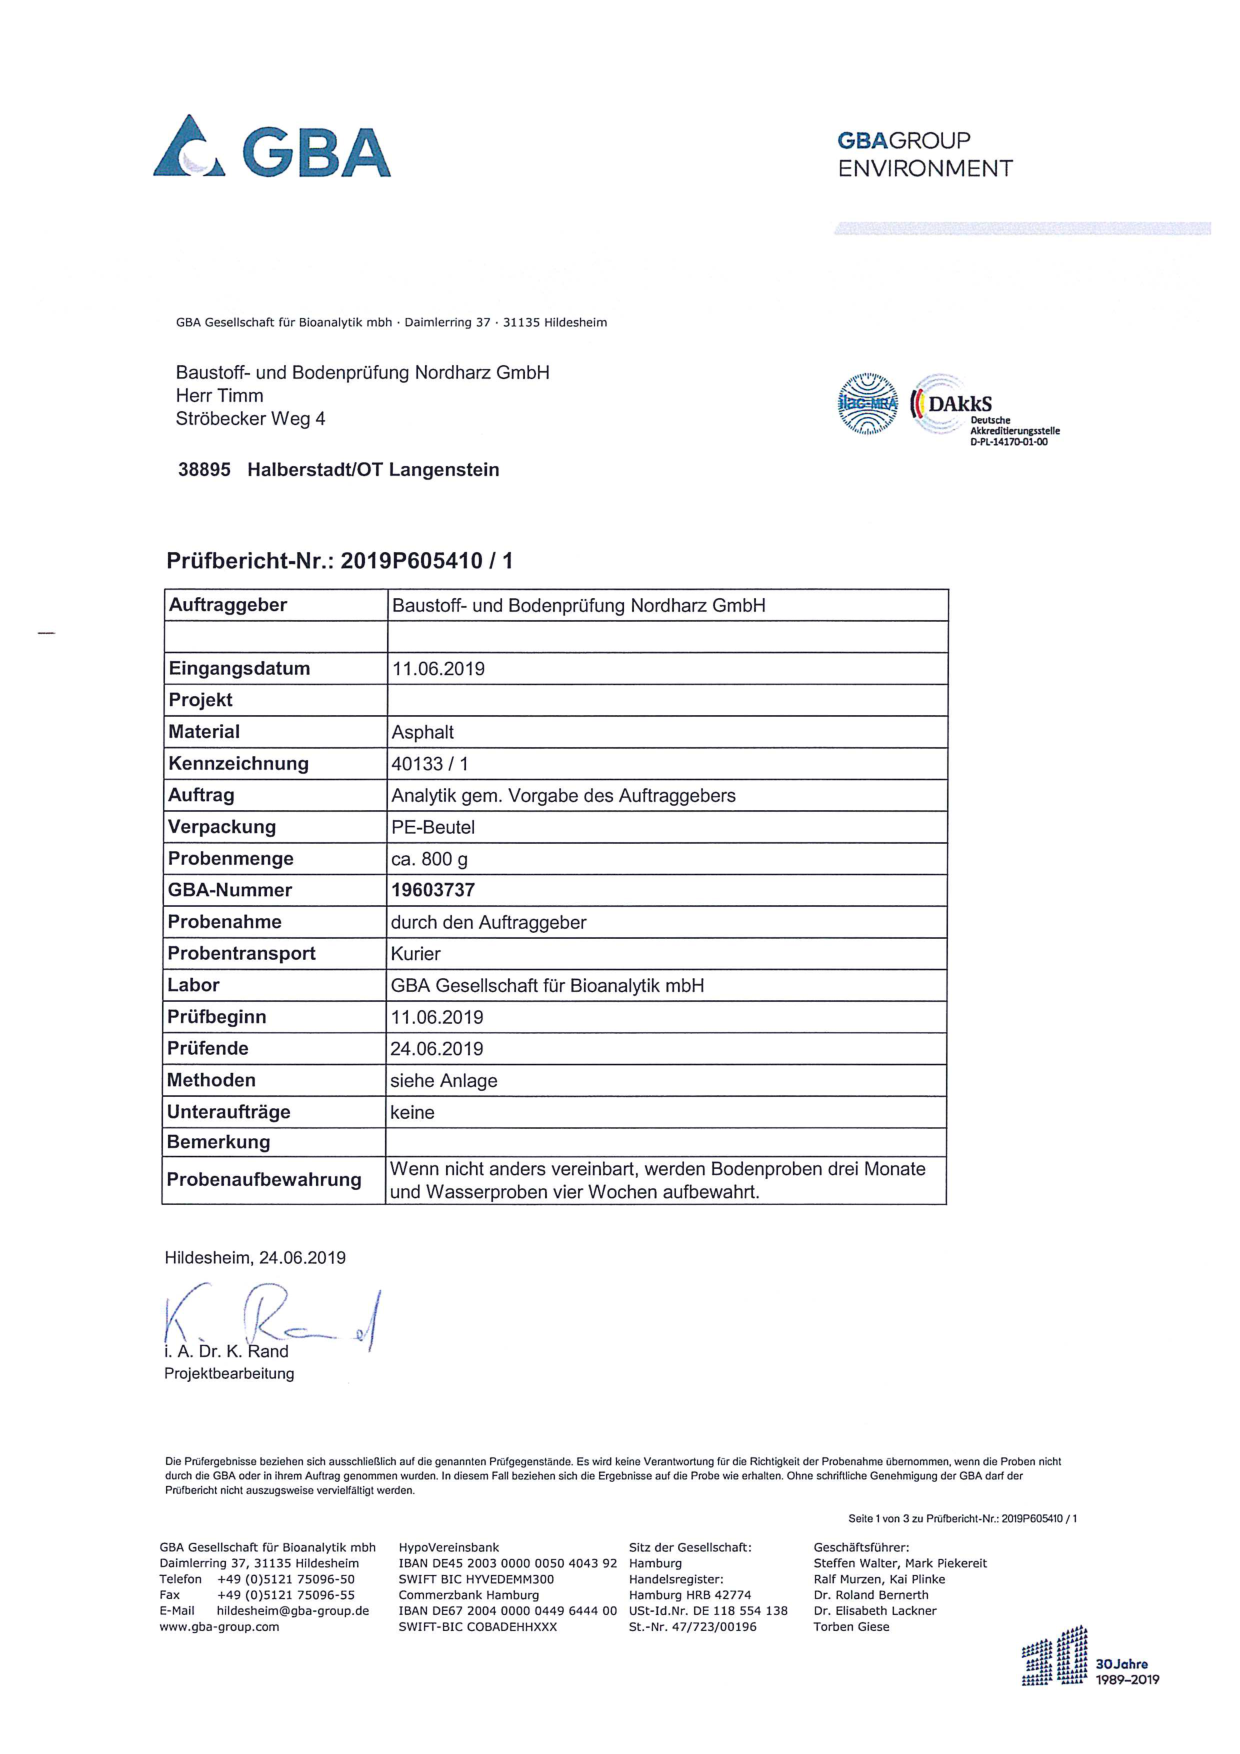table: (144, 578, 964, 1215)
